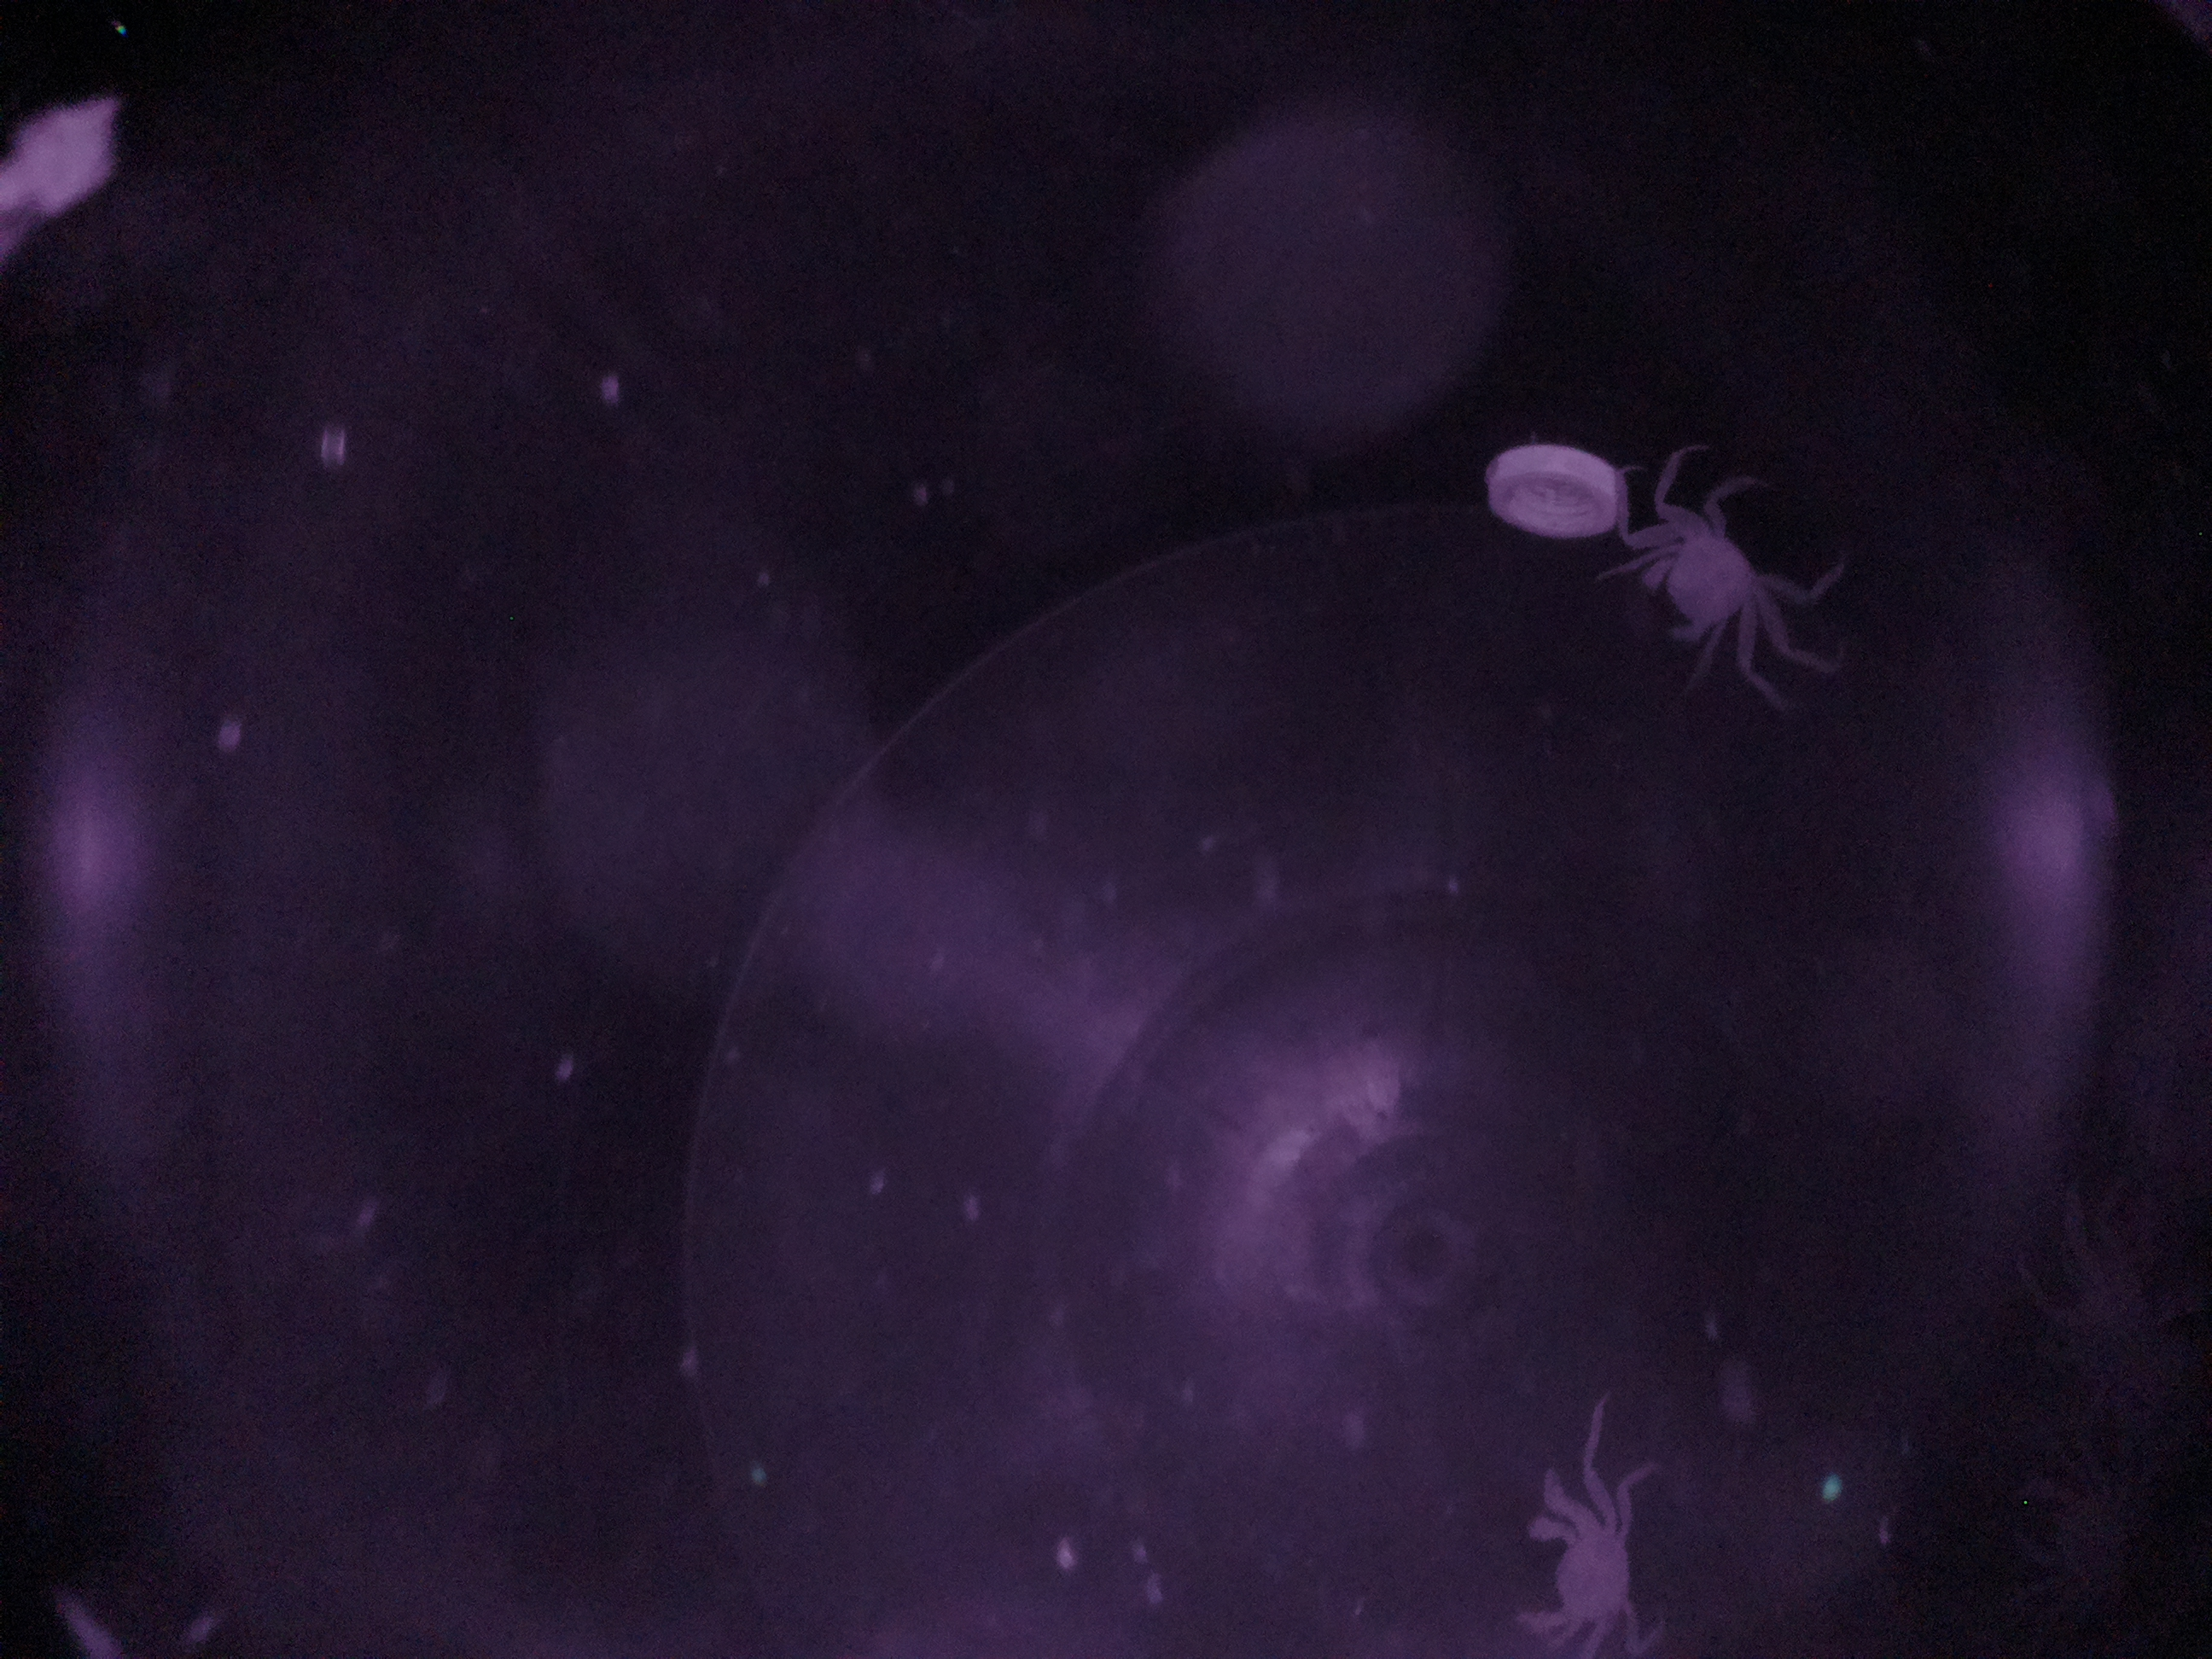Crab: (1620, 490, 1785, 664), (1505, 1462, 1639, 1657)
